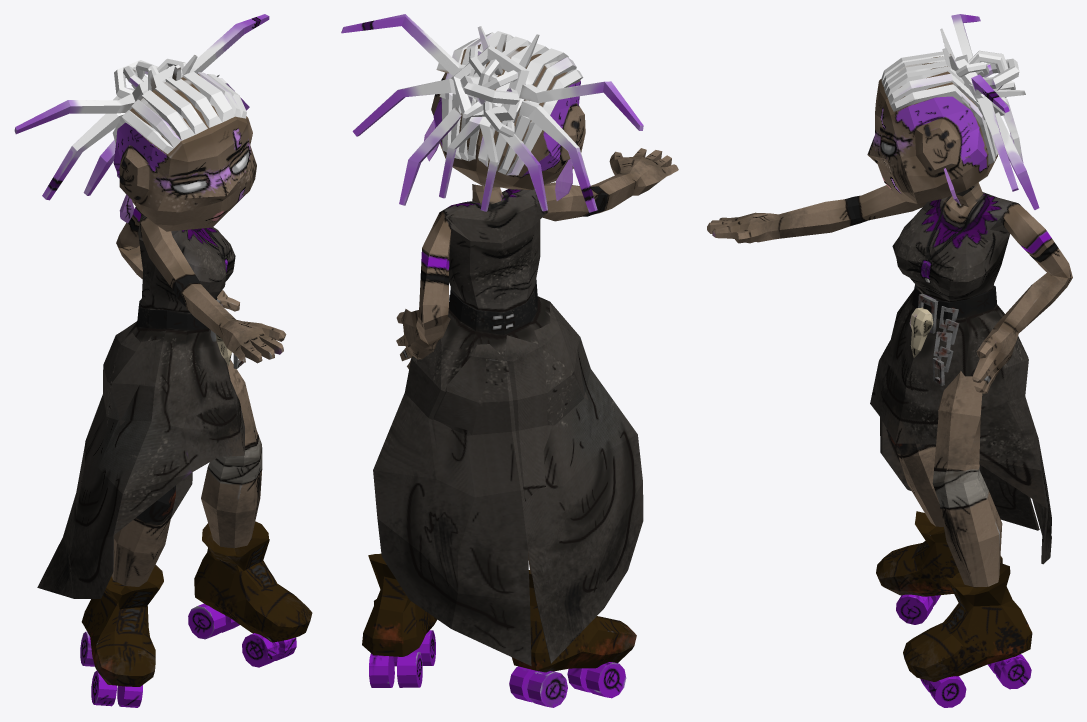
The model's file is bruja_000009.obj.
3 renders of one model, left to right at view 1: azimuth 30°, elevation 25°; view 2: azimuth 150°, elevation 25°; view 3: azimuth 270°, elevation 25°, orthographic. The views are drawn at different scales.
Parts seen in each view (by area): view 1: Bruja_Plane.001; view 2: Bruja_Plane.001; view 3: Bruja_Plane.001.
Part boxes in pixels (left/top/right/bottom): Bruja_Plane.001: left=14, top=14, right=312, bottom=707; Bruja_Plane.001: left=341, top=14, right=678, bottom=707; Bruja_Plane.001: left=707, top=14, right=1072, bottom=707.
Bounding box in the file's own units: 7.44 × 16.5 × 8.85.
